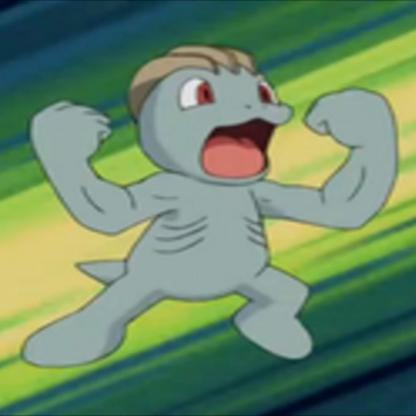Machop: (21, 32, 402, 366)
